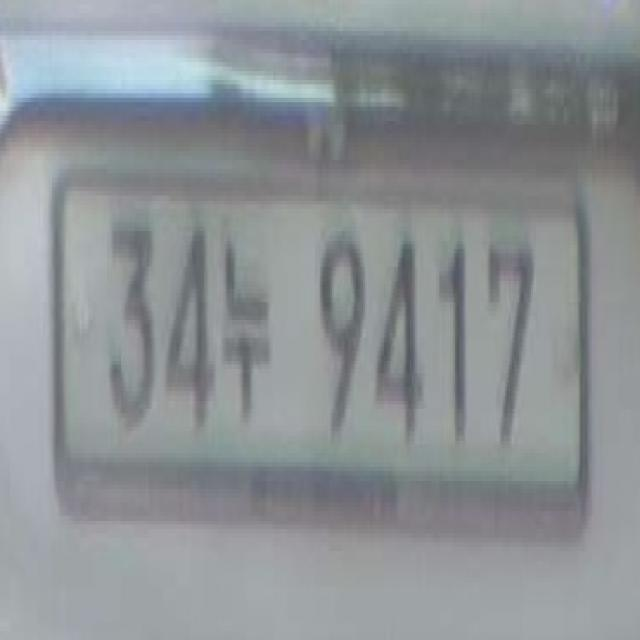1: (439, 231, 469, 445)
3: (106, 213, 158, 431)
4: (159, 213, 215, 431), (370, 227, 424, 440)
7: (484, 231, 536, 449)
9: (317, 227, 365, 436)
license_plate: (49, 156, 588, 534)
nu: (222, 231, 272, 431)
